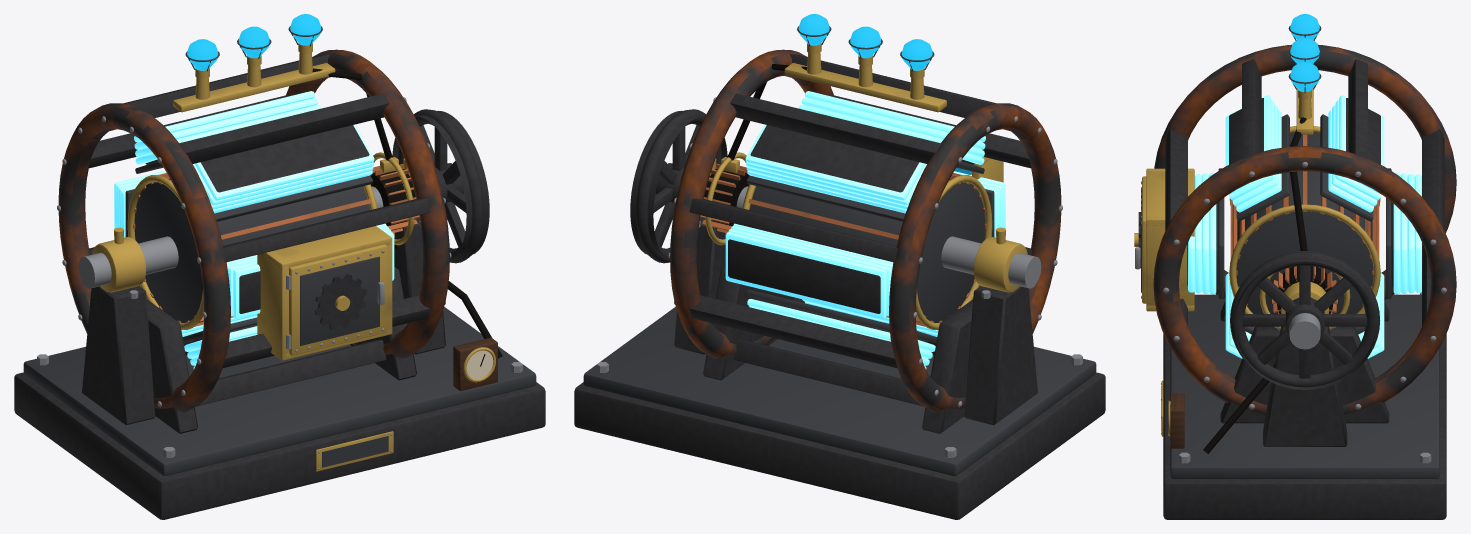
The model's file is generator_reward.glb.
3 views of the same model, side by side, from view 1: azimuth 30°, elevation 25°; view 2: azimuth 150°, elevation 25°; view 3: azimuth 270°, elevation 25° (orthographic). The views are drawn at different scales.
Visible parts, largest first — view 1: generator_reward_static, rotor_static, pole1_static, chestDoor_static, pole2_static, pole0_static, voltmeter_static, gear, plaque_static, pole5_static, pole3_static; view 2: generator_reward_static, rotor_static, pole2_static, pole3_static, pole1_static, pole4_static, pole0_static; view 3: generator_reward_static, rotor_static, pole2_static, pole1_static, pole3_static, pole0_static, chestDoor_static, voltmeter_static, pole5_static, pole4_static.
Boxes of the visible parts, bbox=[...] form: generator_reward_static: bbox=[14, 14, 545, 519]; rotor_static: bbox=[78, 109, 489, 330]; pole1_static: bbox=[193, 124, 374, 221]; chestDoor_static: bbox=[289, 244, 387, 355]; pole2_static: bbox=[134, 91, 321, 173]; pole0_static: bbox=[226, 223, 394, 318]; voltmeter_static: bbox=[453, 337, 497, 391]; gear: bbox=[314, 274, 366, 330]; plaque_static: bbox=[316, 431, 393, 471]; pole5_static: bbox=[182, 317, 257, 369]; pole3_static: bbox=[114, 170, 166, 237]; generator_reward_static: bbox=[574, 14, 1105, 519]; rotor_static: bbox=[630, 109, 1041, 330]; pole2_static: bbox=[745, 124, 926, 221]; pole3_static: bbox=[725, 223, 893, 318]; pole1_static: bbox=[798, 91, 985, 173]; pole4_static: bbox=[746, 289, 937, 369]; pole0_static: bbox=[953, 171, 1005, 237]; generator_reward_static: bbox=[1146, 14, 1456, 519]; rotor_static: bbox=[1229, 126, 1380, 389]; pole2_static: bbox=[1320, 95, 1384, 221]; pole1_static: bbox=[1225, 95, 1289, 221]; pole3_static: bbox=[1386, 168, 1422, 298]; pole0_static: bbox=[1187, 168, 1224, 298]; chestDoor_static: bbox=[1134, 176, 1146, 303]; voltmeter_static: bbox=[1168, 393, 1184, 448]; pole5_static: bbox=[1225, 269, 1255, 358]; pole4_static: bbox=[1355, 271, 1384, 358].
Size of the model in its own units: 3 by 2.96 by 2.27.
14 materials, 5 textured.
